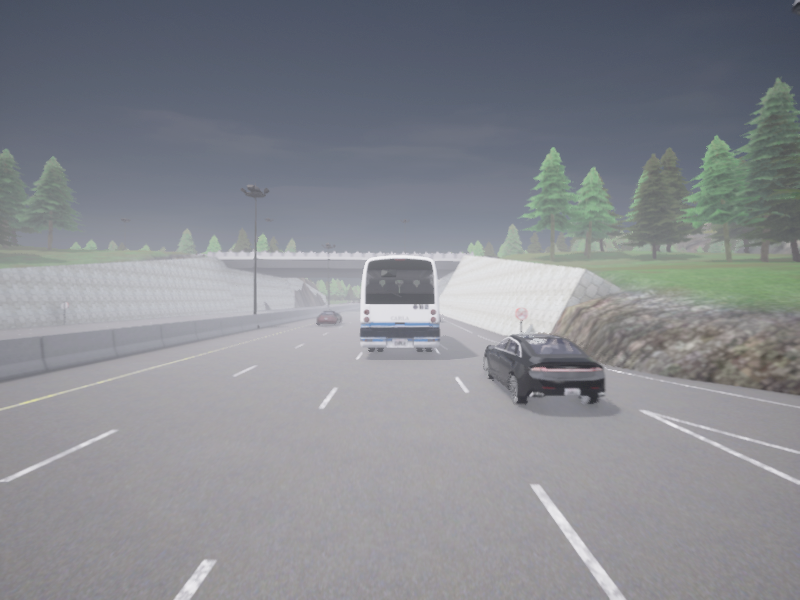vehicle: (483, 334, 605, 404), (360, 256, 439, 350), (317, 310, 341, 324), (439, 314, 440, 321)
